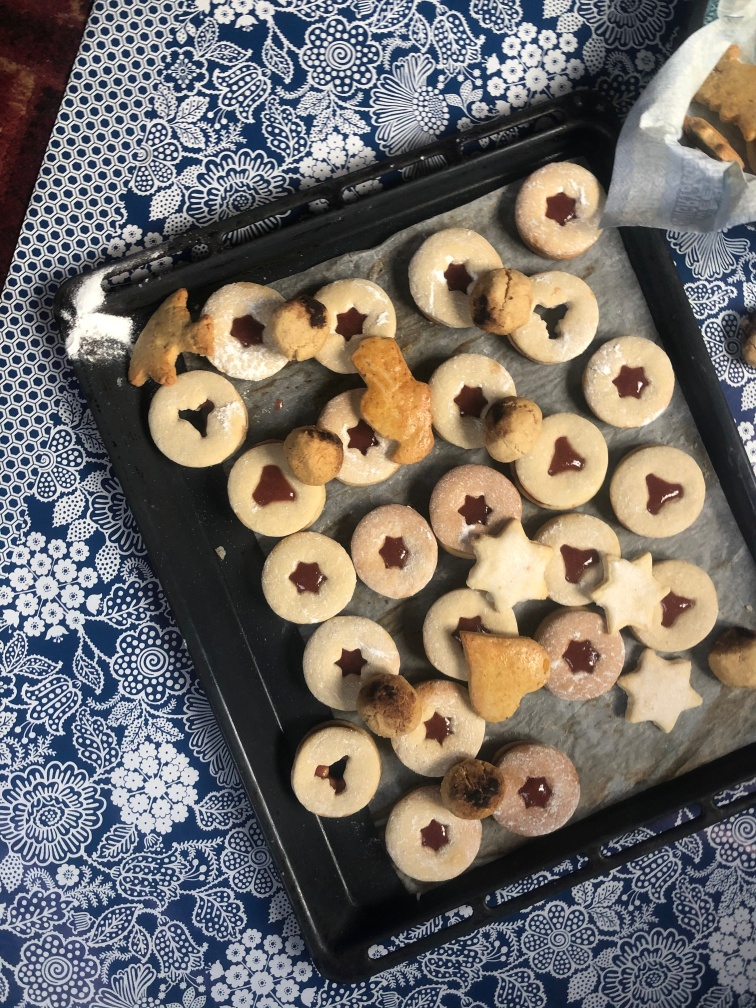christmas shortbread with jam: (409, 225, 505, 330), (149, 369, 244, 473), (232, 435, 323, 539), (514, 157, 606, 259), (201, 283, 288, 381), (616, 442, 706, 535), (292, 727, 383, 818), (389, 795, 483, 881), (265, 534, 360, 619), (309, 279, 398, 368), (513, 267, 596, 361), (503, 745, 582, 842), (523, 414, 608, 504), (590, 334, 674, 424), (350, 504, 434, 594), (433, 346, 493, 448), (301, 617, 361, 708), (661, 562, 714, 661), (545, 516, 602, 606), (433, 468, 519, 527), (420, 682, 481, 763), (331, 396, 384, 481), (427, 590, 461, 672)
heart: (453, 625, 555, 724)
lamb: (132, 283, 216, 385)
snowball: (361, 670, 421, 746), (282, 423, 346, 486), (438, 749, 501, 812), (477, 266, 531, 335), (489, 394, 543, 456)
snowman: (348, 332, 436, 467)
